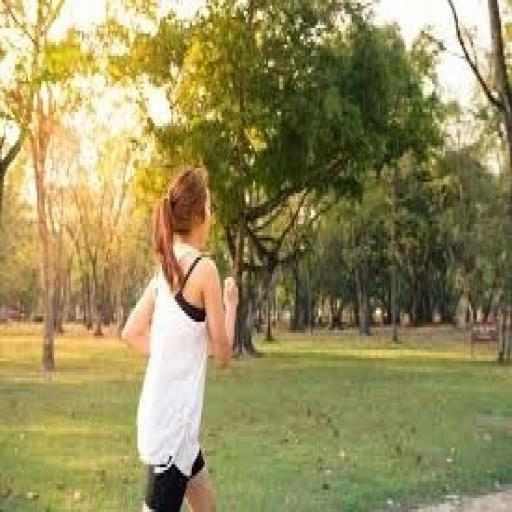running: (119, 162, 240, 509)
